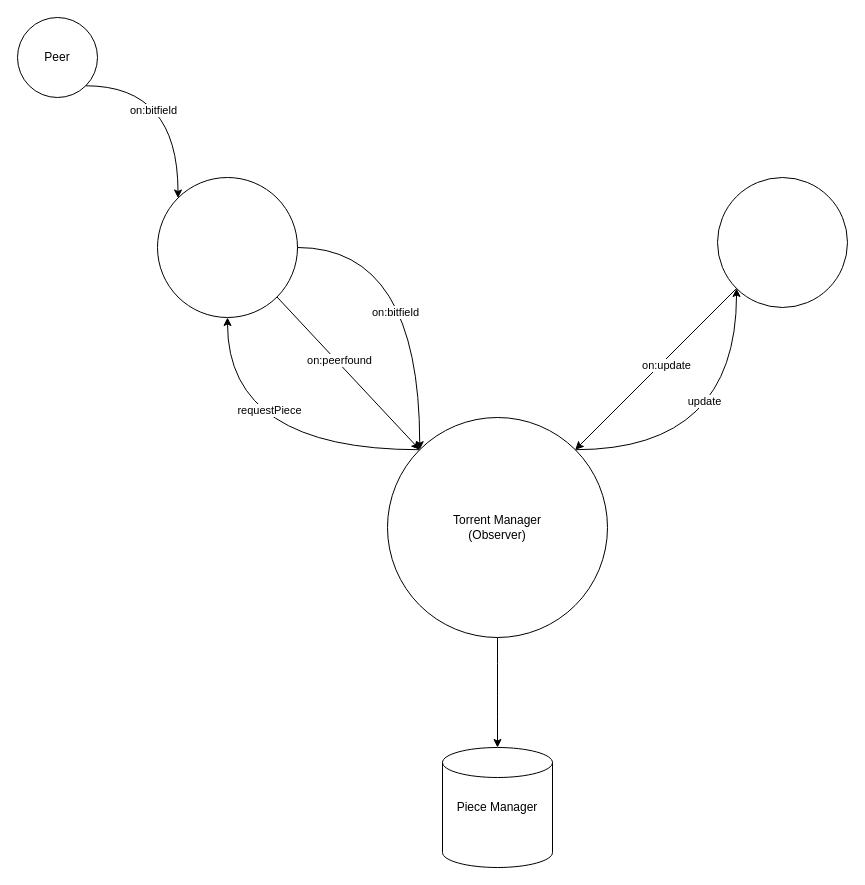
The diagram is 865 pixels wide and 885 high, and some of its shapes have lost their labels. Here are the shapes that lost their labels. From the top down, the centre of each, then its label:
point 227,247: Peer Manager (Observable)
point 782,242: Update Service (Observable)
